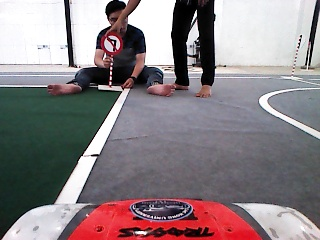ban_left: (100, 33, 124, 55)
